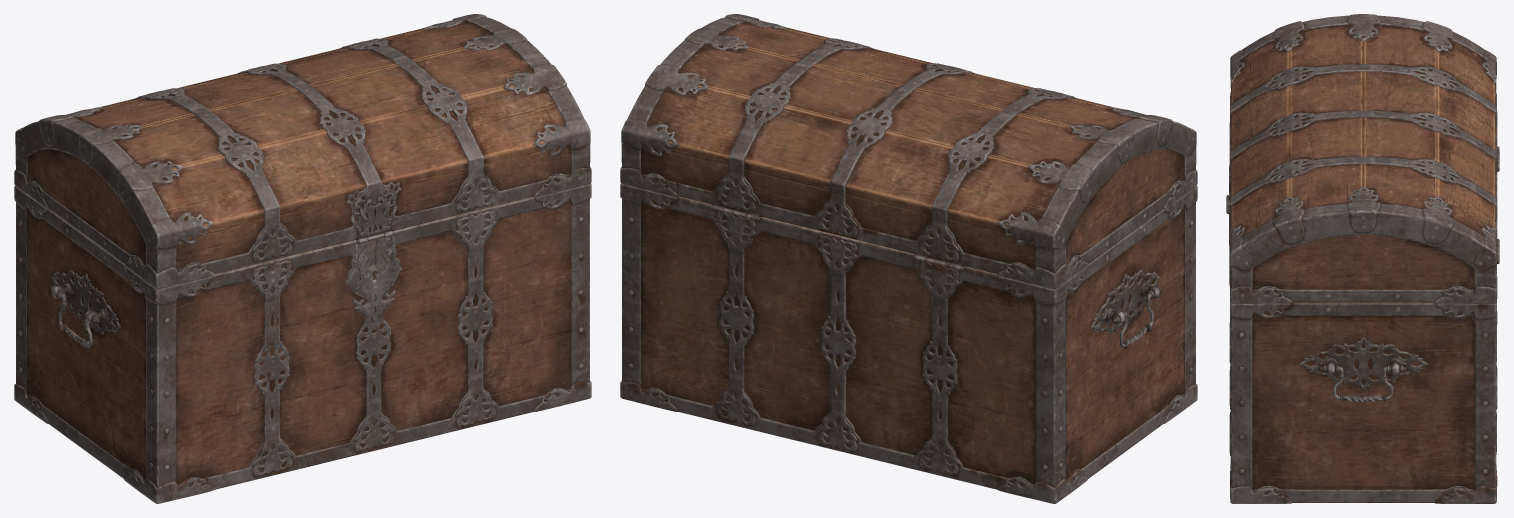
Rendered from treasure_chest_1k-slim.glb.
3 renders of one model, left to right at view 1: azimuth 30°, elevation 25°; view 2: azimuth 150°, elevation 25°; view 3: azimuth 270°, elevation 25°, orthographic. The views are drawn at different scales.
Parts seen in each view (by area): view 1: treasure_chest_bottom, treasure_chest_lid, treasure_chest_lock; view 2: treasure_chest_bottom, treasure_chest_lid; view 3: treasure_chest_lid, treasure_chest_bottom, treasure_chest_handle_right.
Boxes of the visible parts, left/top/right/bottom form: treasure_chest_bottom: left=14, top=183, right=591, bottom=503; treasure_chest_lid: left=14, top=14, right=591, bottom=288; treasure_chest_lock: left=349, top=233, right=399, bottom=322; treasure_chest_bottom: left=620, top=183, right=1197, bottom=503; treasure_chest_lid: left=620, top=14, right=1197, bottom=288; treasure_chest_lid: left=1226, top=14, right=1499, bottom=303; treasure_chest_bottom: left=1229, top=152, right=1499, bottom=503; treasure_chest_handle_right: left=1320, top=365, right=1406, bottom=402.
Size of the model in its own units: 0.959 by 0.619 by 0.5229.
Materials: 1 (1 with a texture image).
